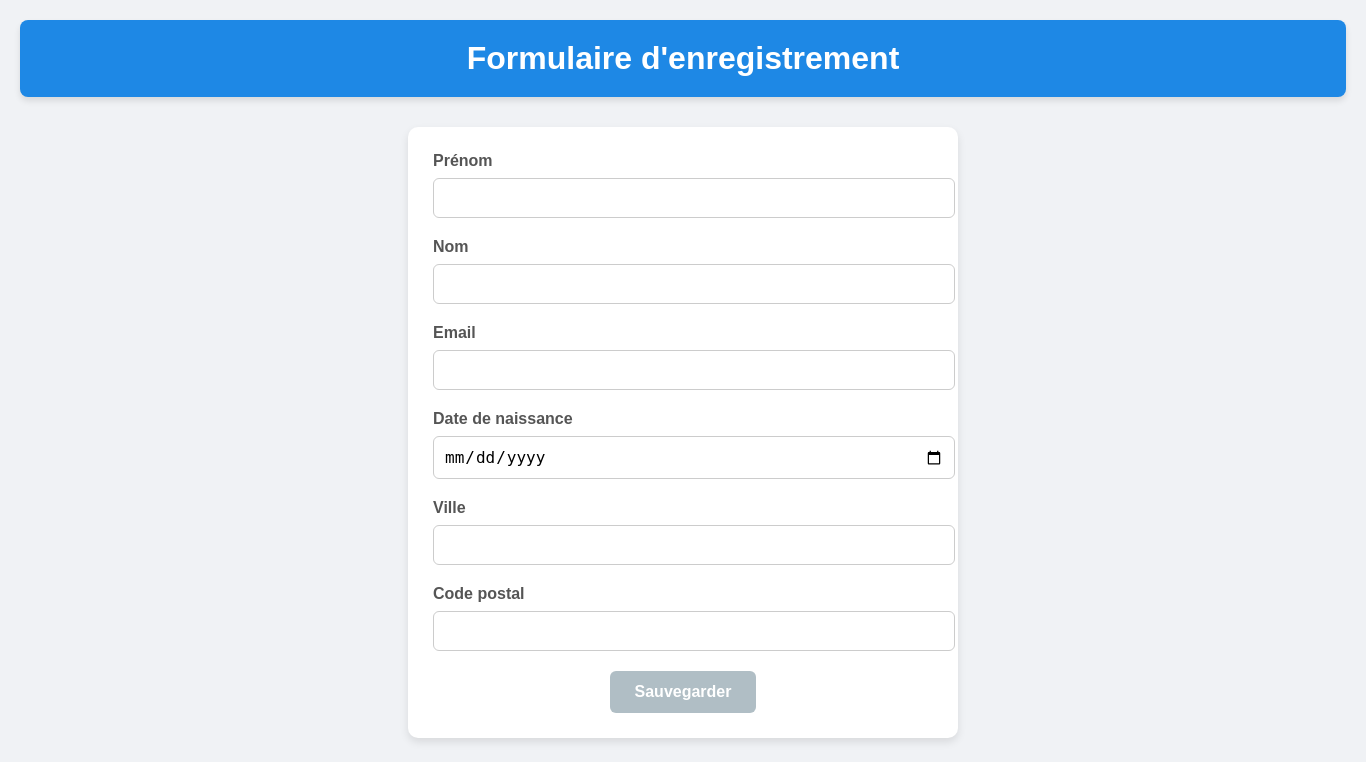
Scenario: Error tests › Validation des champs › affiche une erreur quand l'email est invalide
This screenshot has width=1366, height=762.
Type "invalid-email" into the field with test id "input-email" at (694,370), box [433, 350, 955, 390]
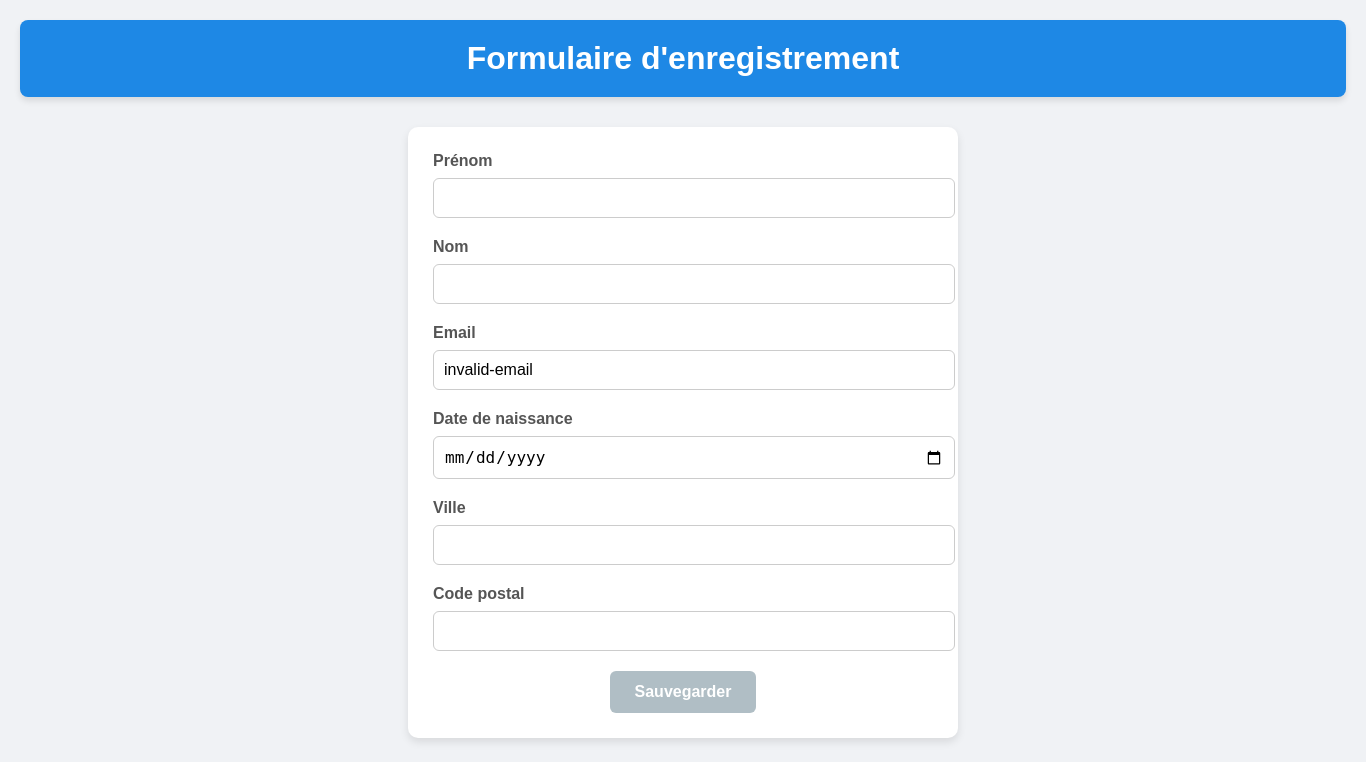
Submit the form with test id "registration-form", box [408, 127, 958, 738]
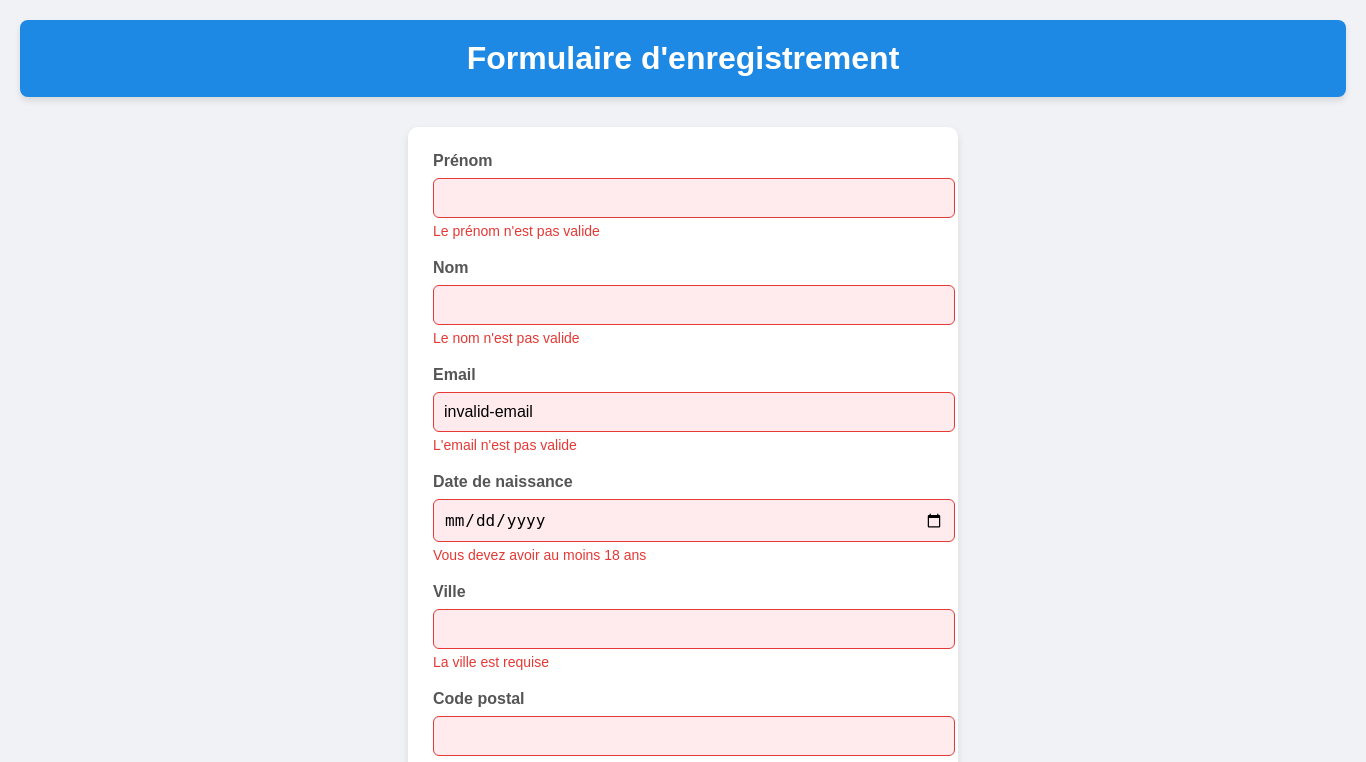
Now the text "L'email n'est pas valide" is shown, box [433, 437, 577, 453]
